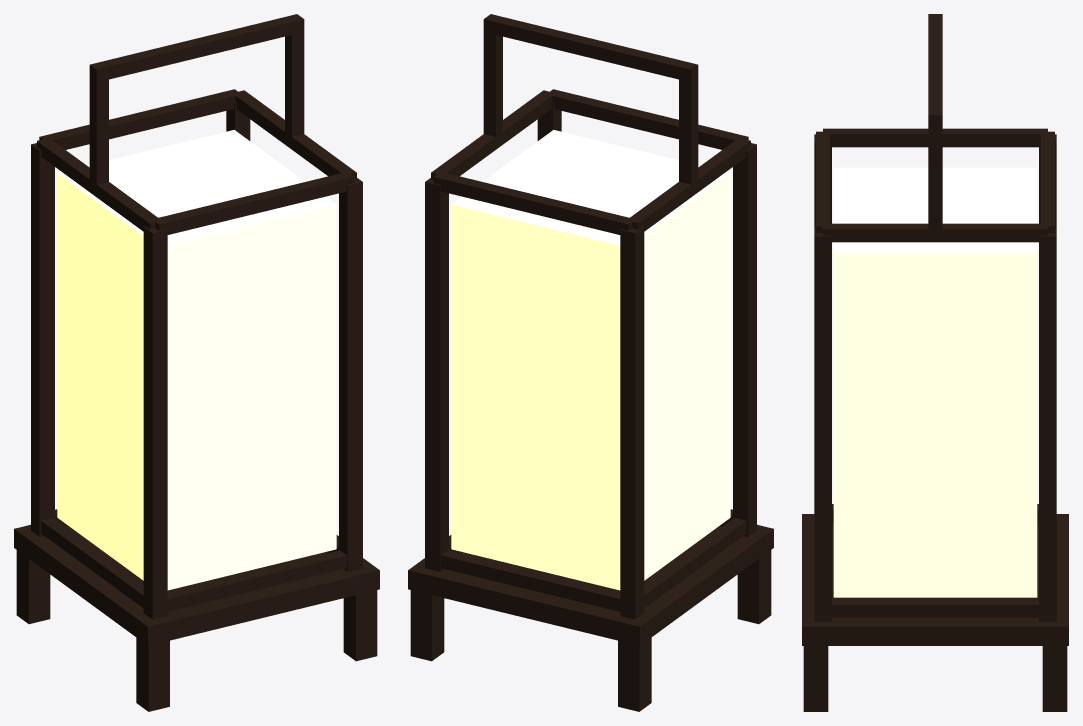
File: andon.glb
3 views of the same model, side by side, from view 1: azimuth 30°, elevation 25°; view 2: azimuth 150°, elevation 25°; view 3: azimuth 270°, elevation 25° (orthographic).
Parts seen in each view (by area): view 1: scene; view 2: scene; view 3: scene.
Part boxes in pixels (x1=…): scene: x1=14, y1=14, x2=379, y2=711; scene: x1=408, y1=14, x2=773, y2=711; scene: x1=802, y1=14, x2=1068, y2=711.
Bounding box in the file's own units: 0.38 × 0.93 × 0.38.
